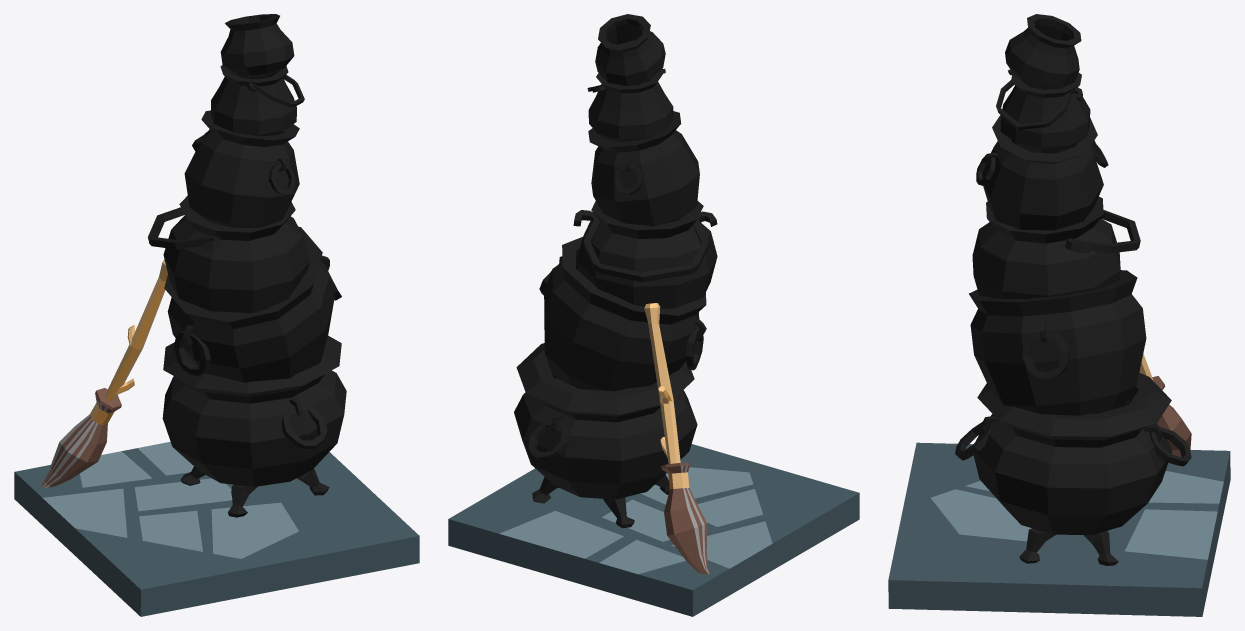
3 renders of one model, left to right at view 1: azimuth 30°, elevation 25°; view 2: azimuth 150°, elevation 25°; view 3: azimuth 270°, elevation 25°, orthographic. The views are drawn at different scales.
Visible parts, largest first — view 1: group_1869945625; view 2: group_1869945625; view 3: group_1869945625.
Part boxes in pixels (<box>): group_1869945625: <box>14,14,419,616</box>; group_1869945625: <box>448,14,859,616</box>; group_1869945625: <box>888,14,1230,616</box>.
Size of the model in its own units: 52.16 by 89.23 by 51.04.
